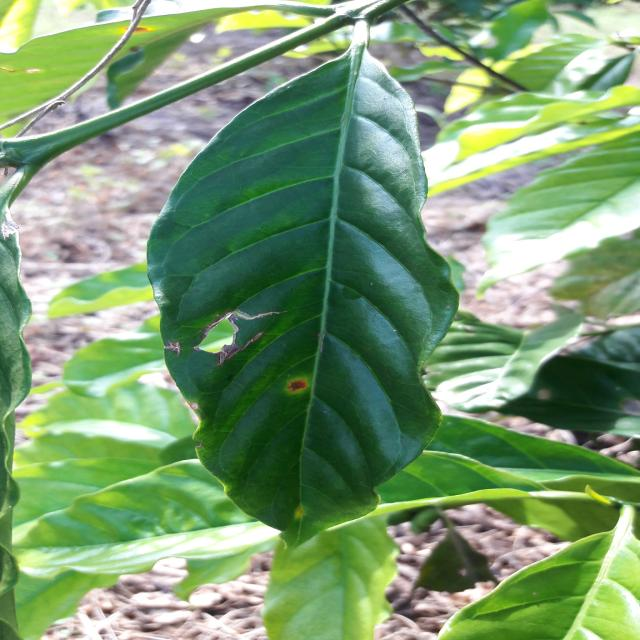Plaga-AranaRoja: (144, 46, 463, 545)
